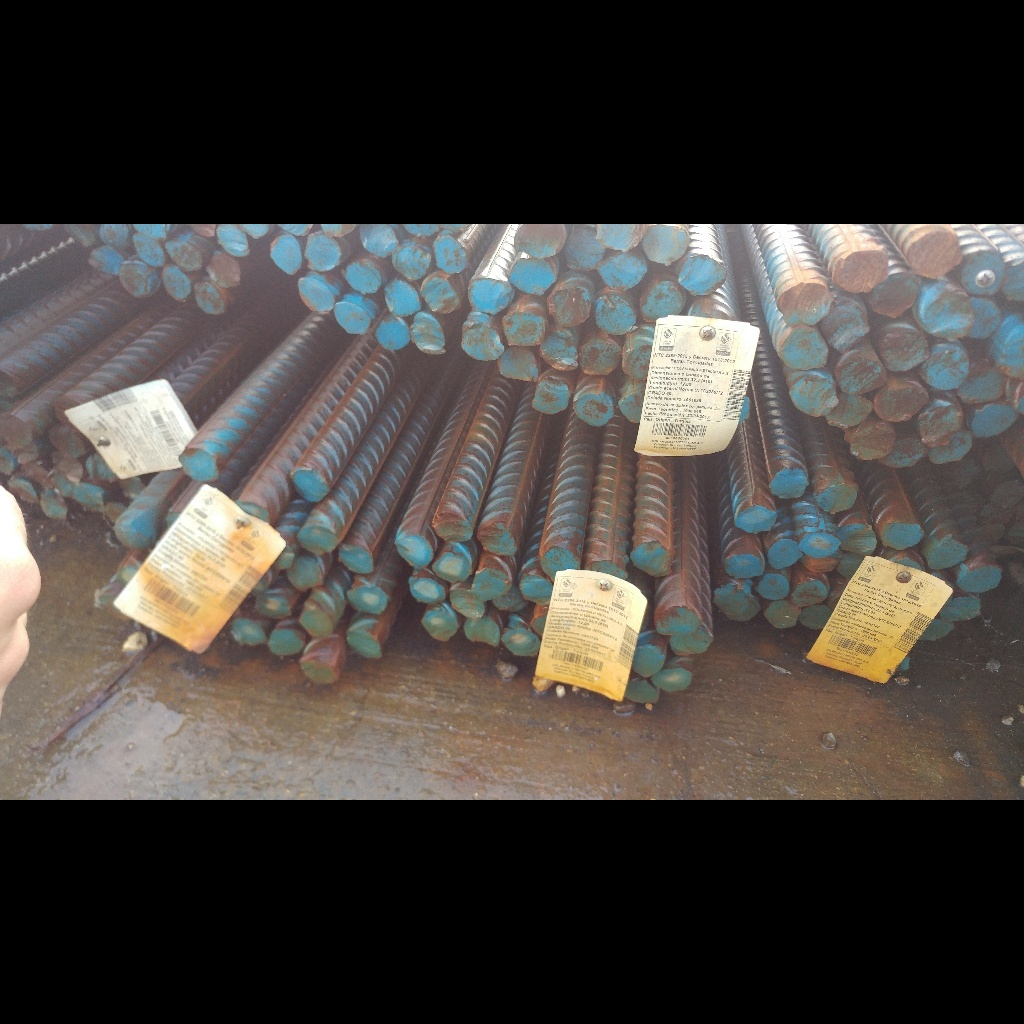dipstick: (909, 231, 962, 278), (825, 299, 869, 351), (837, 249, 888, 293), (777, 283, 828, 325), (926, 294, 973, 339), (781, 329, 828, 369), (882, 331, 929, 371), (680, 256, 726, 296), (872, 278, 918, 318), (513, 225, 566, 259), (788, 378, 834, 416), (461, 320, 504, 360), (640, 282, 683, 322), (962, 254, 1002, 297), (713, 586, 760, 622), (919, 404, 961, 444), (836, 360, 885, 394), (643, 226, 688, 263), (875, 389, 927, 421), (925, 351, 968, 389), (511, 259, 555, 296), (600, 256, 646, 290), (566, 229, 604, 270), (541, 330, 579, 371), (548, 288, 590, 325), (827, 395, 874, 428), (468, 277, 510, 313), (580, 339, 622, 375), (972, 404, 1016, 438), (595, 297, 634, 335), (421, 279, 462, 315), (114, 512, 155, 547), (851, 427, 895, 459), (633, 541, 672, 577), (503, 313, 545, 346), (958, 373, 1002, 404), (412, 313, 446, 353), (930, 433, 973, 464), (434, 235, 468, 274), (297, 277, 334, 312), (392, 246, 431, 279), (359, 225, 398, 258), (499, 348, 538, 381), (573, 393, 613, 425), (926, 538, 968, 568), (541, 546, 579, 579), (270, 236, 302, 275), (385, 281, 420, 316), (346, 585, 387, 614), (533, 381, 569, 414), (479, 524, 516, 556), (769, 468, 807, 499), (395, 536, 433, 567), (886, 439, 928, 467), (656, 606, 698, 634), (817, 483, 857, 512), (306, 237, 340, 271), (334, 302, 369, 335), (181, 450, 217, 482), (669, 630, 713, 656), (215, 225, 249, 258), (207, 255, 241, 288), (881, 523, 924, 549), (959, 566, 1002, 592), (375, 318, 411, 349), (292, 470, 328, 501), (288, 559, 324, 590), (839, 525, 876, 555), (433, 552, 470, 582), (973, 298, 1000, 339), (298, 526, 336, 555), (599, 225, 643, 250), (422, 610, 458, 640), (338, 544, 374, 574), (165, 242, 202, 271), (119, 263, 150, 297), (347, 263, 381, 294), (735, 507, 777, 532), (502, 629, 540, 656), (161, 267, 191, 301), (348, 629, 382, 659), (623, 345, 652, 380), (47, 430, 86, 456), (799, 532, 839, 557), (767, 539, 801, 568), (940, 597, 981, 621), (764, 600, 799, 628), (133, 235, 164, 266), (632, 646, 664, 676), (434, 520, 474, 544), (196, 282, 225, 315), (450, 589, 484, 617), (409, 576, 445, 602), (620, 388, 645, 425), (301, 609, 334, 637), (520, 576, 554, 603), (269, 629, 303, 656), (232, 617, 266, 644), (726, 554, 764, 578), (464, 618, 499, 644), (652, 669, 693, 691), (52, 454, 83, 483), (1, 415, 30, 446), (88, 246, 121, 273), (755, 574, 789, 600), (300, 658, 338, 681), (41, 489, 69, 520), (256, 594, 292, 618), (794, 581, 827, 607), (625, 681, 658, 706), (72, 483, 105, 508), (475, 571, 505, 597), (7, 478, 38, 503), (799, 606, 832, 628), (88, 456, 117, 481), (64, 225, 96, 247), (919, 621, 955, 640), (99, 225, 128, 247), (55, 398, 80, 423), (497, 588, 523, 609), (803, 558, 837, 572), (839, 558, 862, 578)
